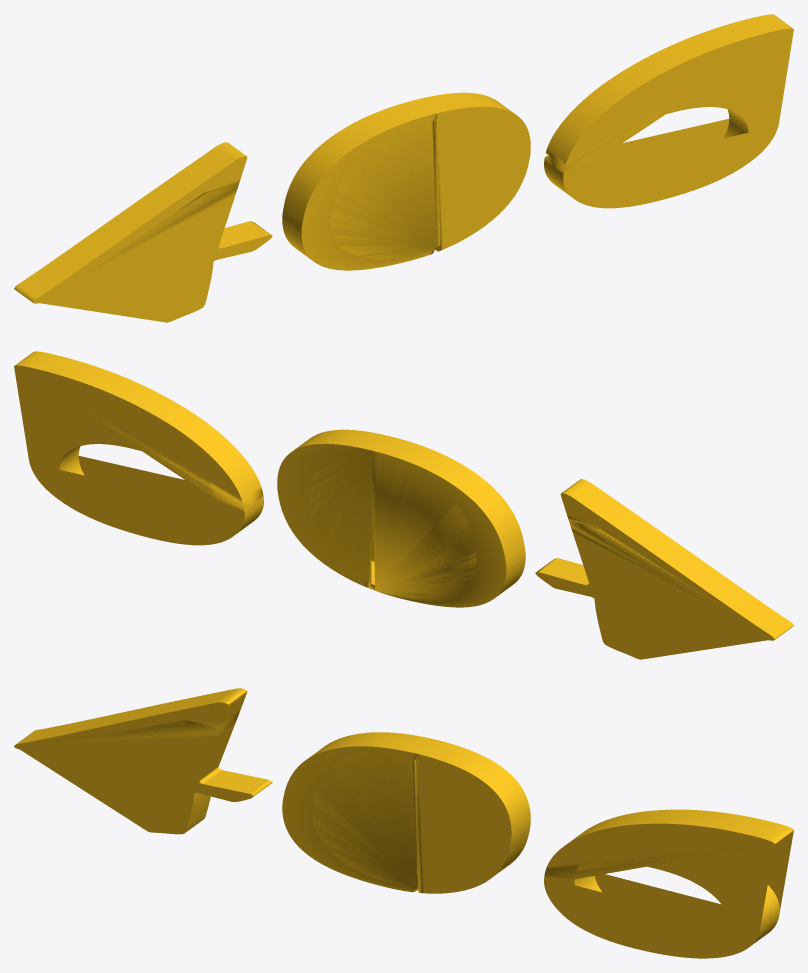
The picture shows the model from 3 angles, top to bottom: view 1: azimuth 30°, elevation 25°; view 2: azimuth 150°, elevation 25°; view 3: azimuth 330°, elevation 25°; orthographic projection.
Parts seen in each view (by area): view 1: T_406_LOD0; view 2: T_406_LOD0; view 3: T_406_LOD0.
Boxes of the visible parts, x1,y1,x2,y2 form: T_406_LOD0: (14, 14, 793, 322); T_406_LOD0: (14, 351, 793, 659); T_406_LOD0: (14, 688, 793, 958).
Size of what is drawn, in the model's own units: 20.84 by 3.86 by 0.9122.
